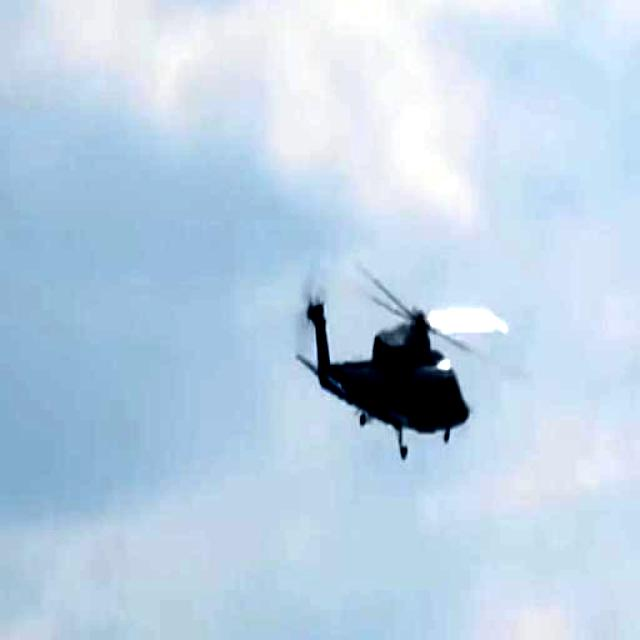drone: (290, 252, 505, 468)
